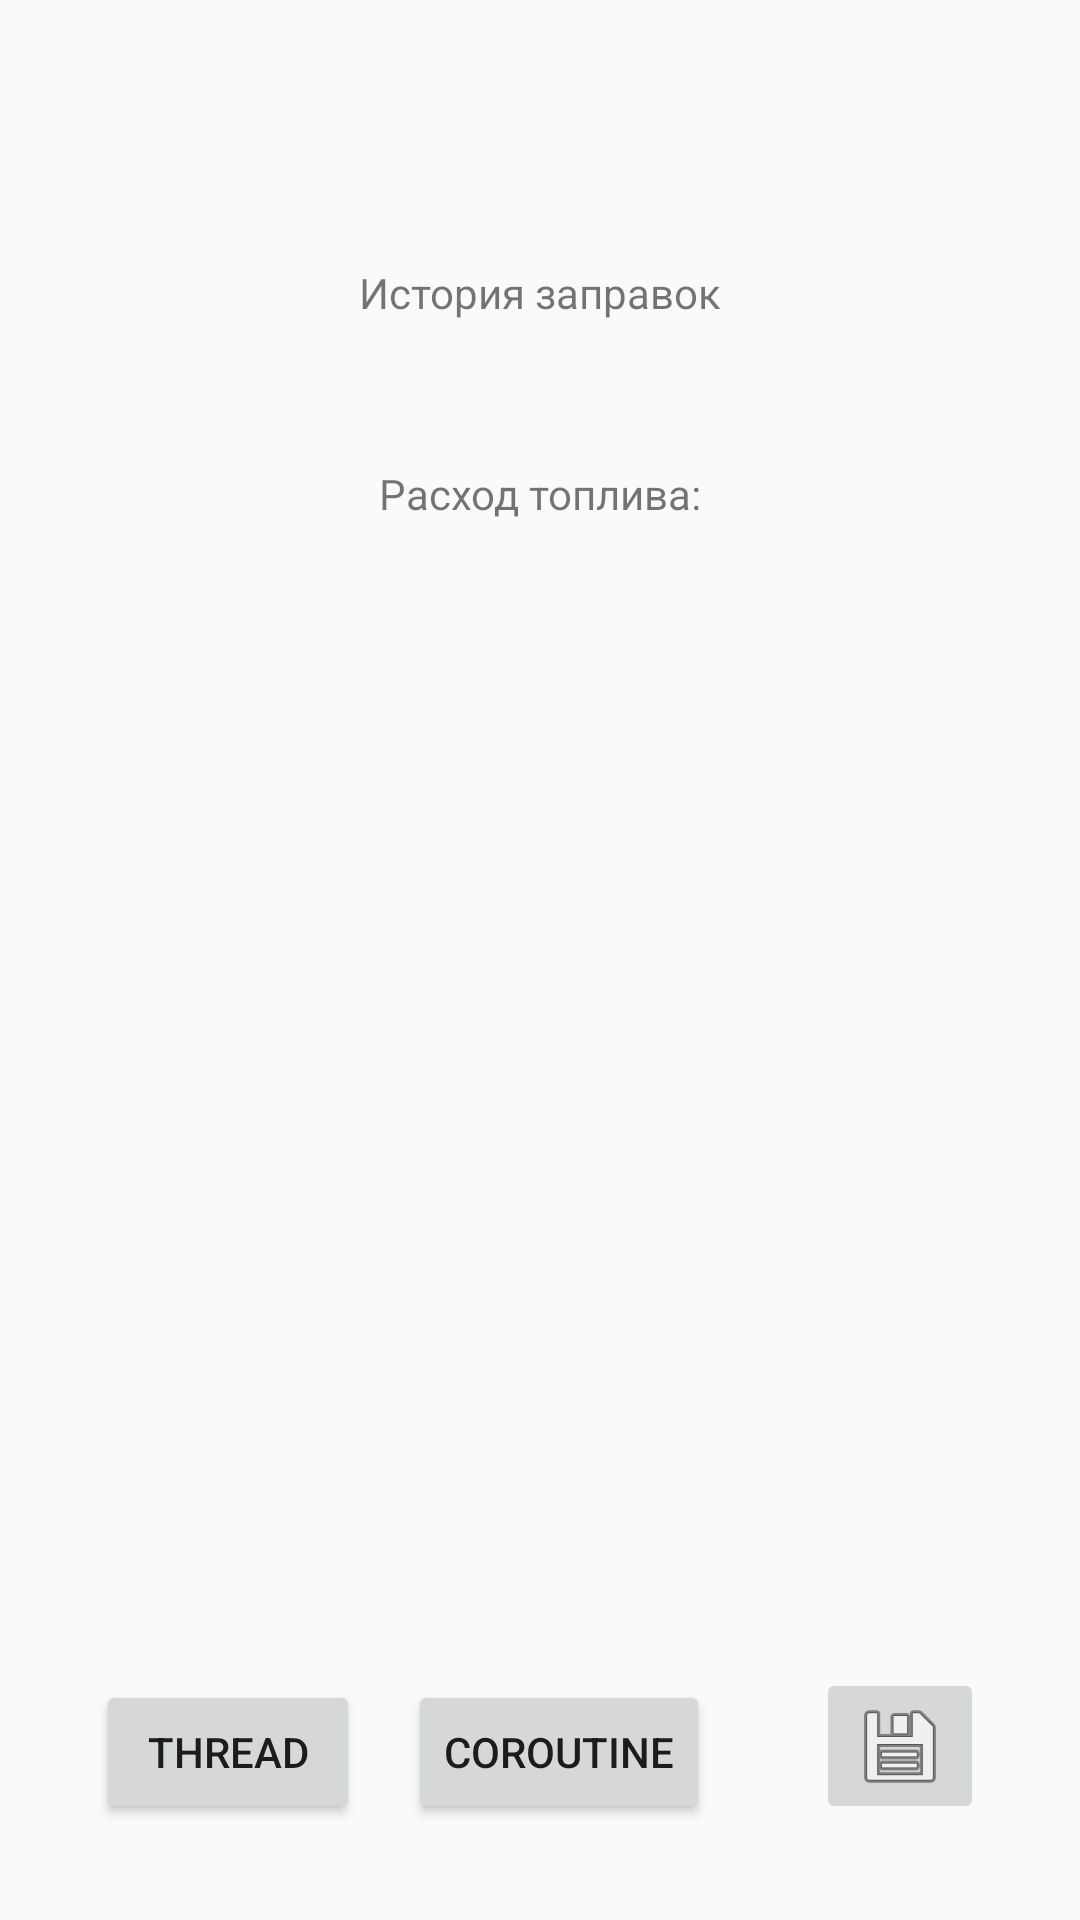

Icon bounding boxes for this 1080*1920 phone screenshot, format (x1, y1, x2, y2):
Работа с файлами: (828, 1686, 972, 1806)
